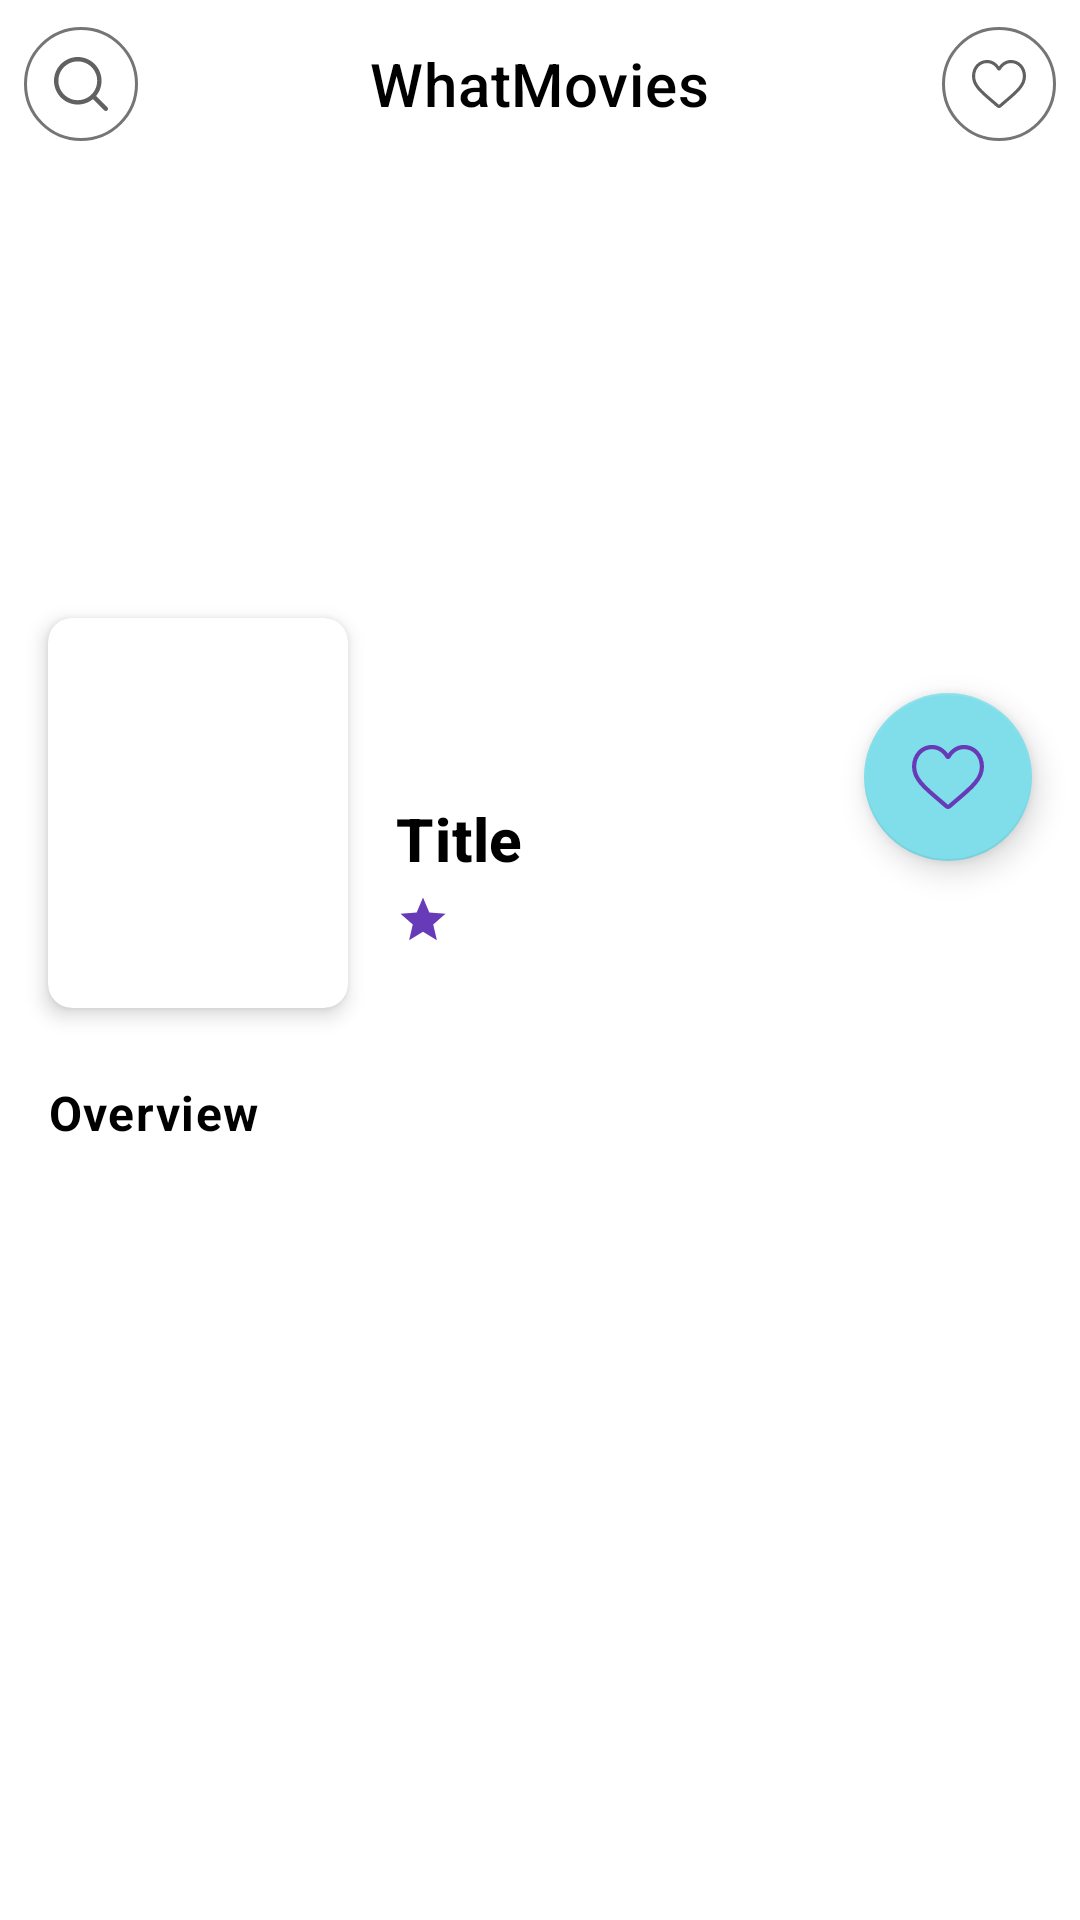

Named icons in this screenshot (1080px×1920px) and their centers, [x,y]:
search: [81,84]
star: [423,919]
